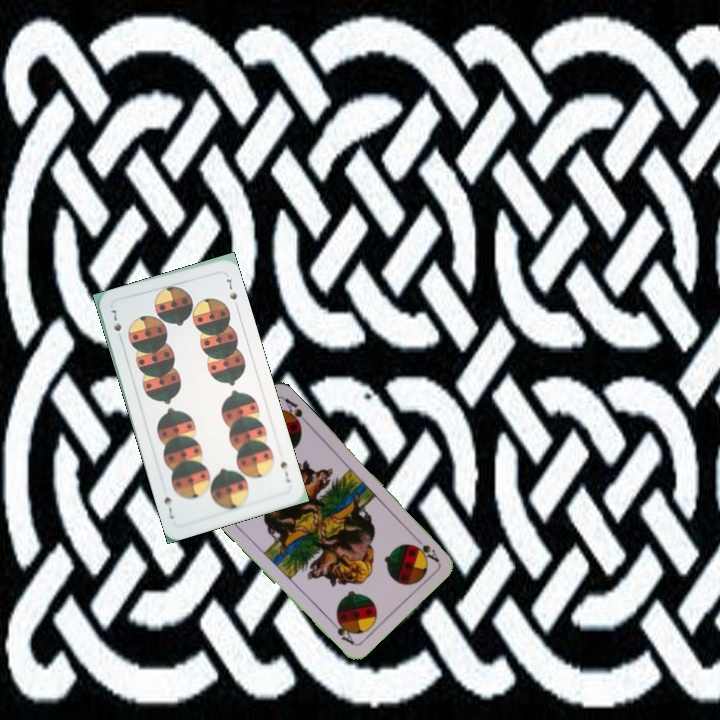S7: (107, 306, 125, 344), (276, 457, 293, 485)
SA: (409, 531, 441, 565)
